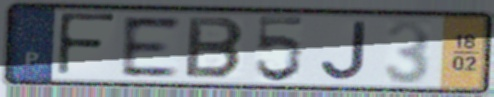3: (383, 18, 434, 86)
5: (253, 13, 306, 85)
B: (182, 15, 248, 82)
E: (119, 15, 183, 79)
F: (55, 10, 120, 80)
J: (317, 19, 371, 83)
